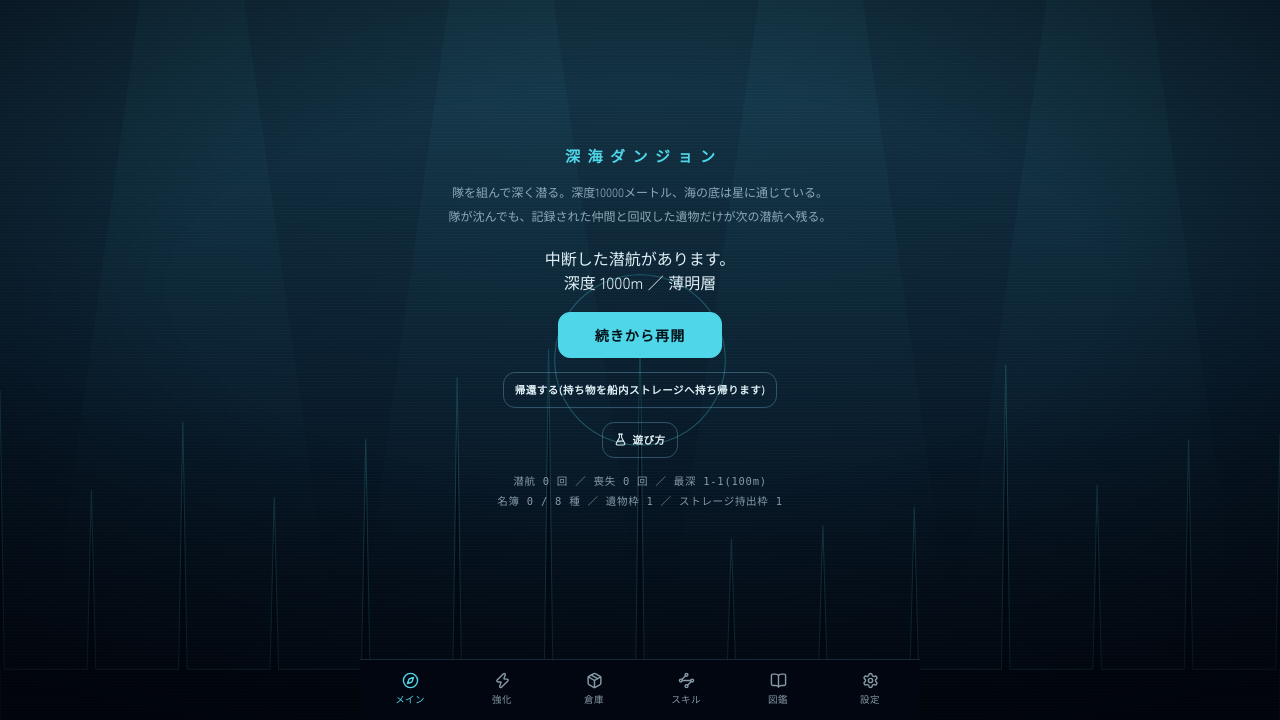
it: 深度表示の整合性 › 海域1最終層(depth=10, 1000m)クリア後、次の海域の表示深度が1100mで続く(600mへ戻らない)
Step 1. Click the button "続きから再開" → (640, 335), box [558,312,722,358]
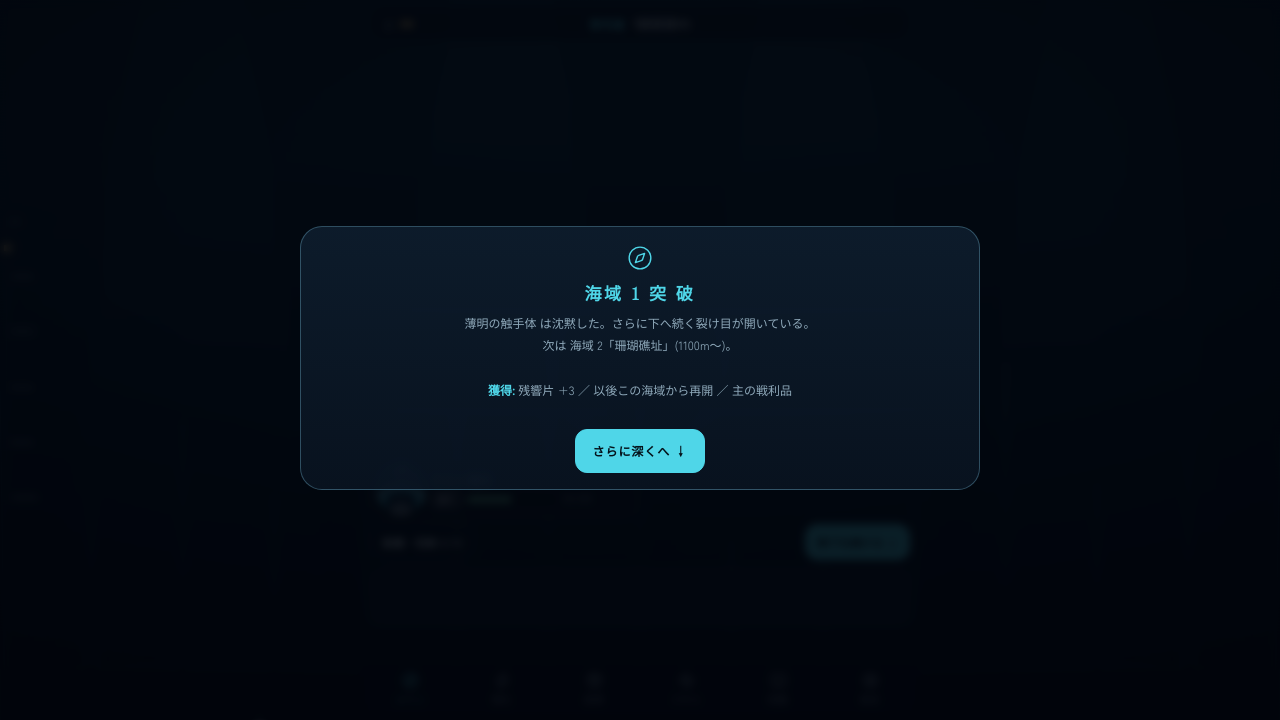
Now the text "1100m" is shown, box [464,314,816,398]
